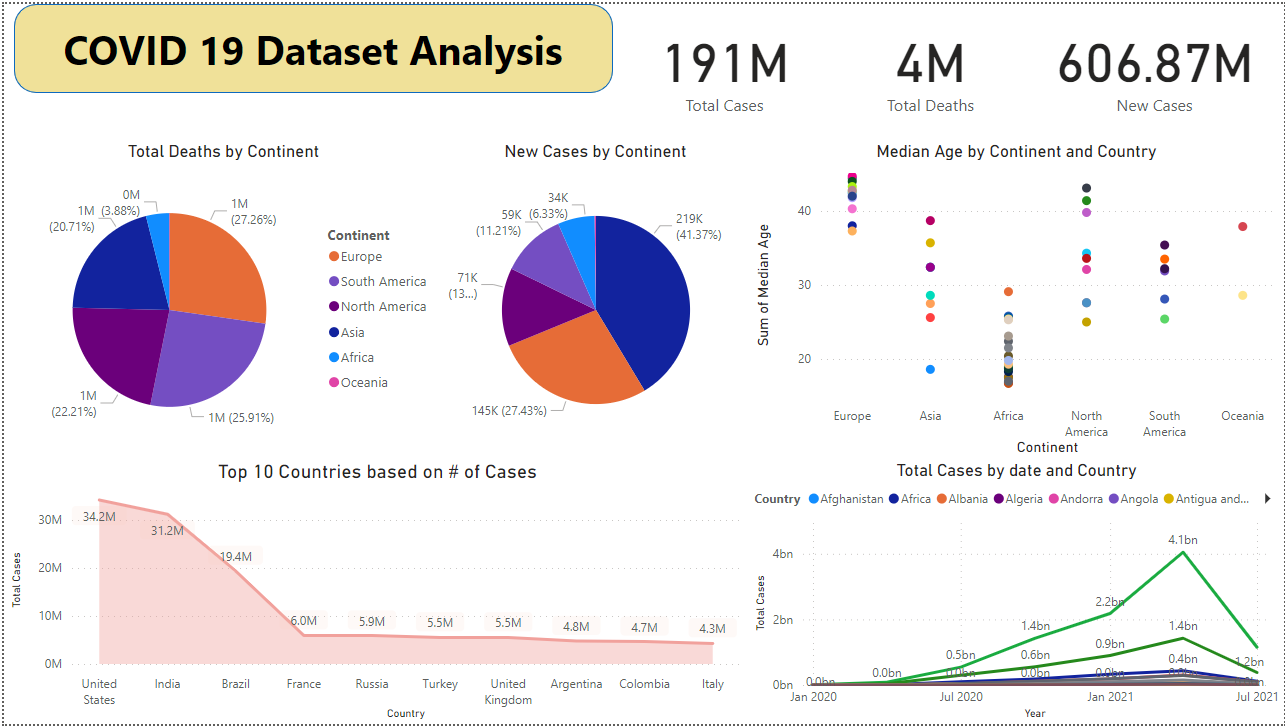

The page's visual inventory and layout, read from the dashboard file:
{"tool":"powerbi","page":{"name":"Page 4","canvas":[1280,720],"ordinal":3},"visuals":[{"type":"shape","box":[9.5,0,599,89.1],"z":0},{"type":"pieChart","title":"Total Deaths by Continent","fields":{"Category":["Covid Final.Continent"],"Y":["Sum(Covid Final.Total Deaths)"]},"box":[2.1,136.7,436.2,319.7],"z":0},{"type":"card","fields":{"Values":["Sum(Covid Final.Total Cases)"]},"box":[608.6,0,223.1,124.4],"z":1},{"type":"card","fields":{"Values":["Sum(Covid Final.Total Deaths)"]},"box":[831.7,0,189.2,124.4],"z":2},{"type":"card","fields":{"Values":["Sum(Trend Of Daily Cases.New Cases)"]},"box":[1020.9,0,259.1,124.4],"z":3},{"type":"pieChart","title":"New Cases by Continent","fields":{"Category":["Covid Final.Continent"],"Y":["Sum(Covid Final.New Cases)"]},"box":[438,137.1,308.3,319.3],"z":1000},{"type":"areaChart","title":"Top 10 Countries based on # of Cases","fields":{"Category":["Covid Final.Country"],"Y":["Sum(Covid Final.Total Cases)"]},"box":[1.8,456.4,744.4,263.2],"z":1001},{"type":"lineChart","title":"Median Age by Continent and Country","fields":{"Category":["Covid Final.Continent"],"Y":["Sum(Covid Final.Median Age)"],"Series":["Covid Final.Country"]},"box":[746.3,137.1,533.7,319.3],"z":1002},{"type":"lineChart","title":"Total Cases by date and Country","fields":{"Y":["Sum(Trend Of Daily Cases.Total Cases)"],"Category":["Trend Of Daily Cases.Date.Variation.Date Hierarchy.Year","Trend Of Daily Cases.Date.Variation.Date Hierarchy.Quarter"],"Series":["Trend Of Daily Cases.Country"]},"box":[746.3,456.4,533.7,263.2],"z":1003}]}

Visuals, with their boxes in screenshot pixels (x1, y1, x2, y2), scaled from the page's 1280x720 canvas onto the 1285x728 screenshot:
shape: region(10, 0, 611, 90)
"Total Deaths by Continent" pieChart: region(2, 138, 440, 461)
card - Sum(Covid Final.Total Cases): region(611, 0, 835, 126)
card - Sum(Covid Final.Total Deaths): region(835, 0, 1025, 126)
card - Sum(Trend Of Daily Cases.New Cases): region(1025, 0, 1284, 126)
"New Cases by Continent" pieChart: region(440, 139, 749, 461)
"Top 10 Countries based on # of Cases" areaChart: region(2, 461, 749, 727)
"Median Age by Continent and Country" lineChart: region(749, 139, 1284, 461)
"Total Cases by date and Country" lineChart: region(749, 461, 1284, 727)
